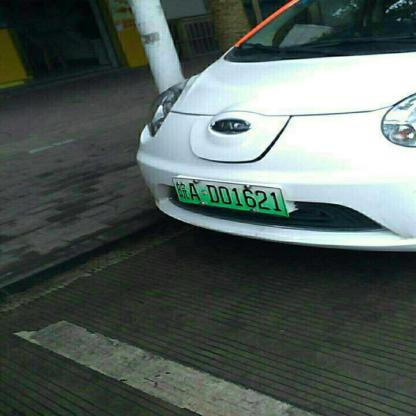lp: (170, 176, 289, 216)
